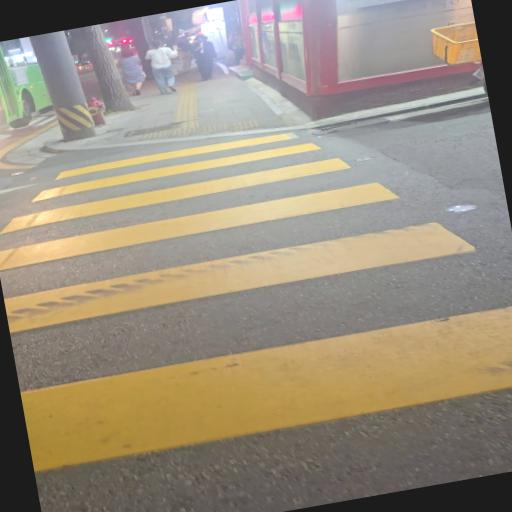yellow-crosswalk: (0, 85, 512, 498)
